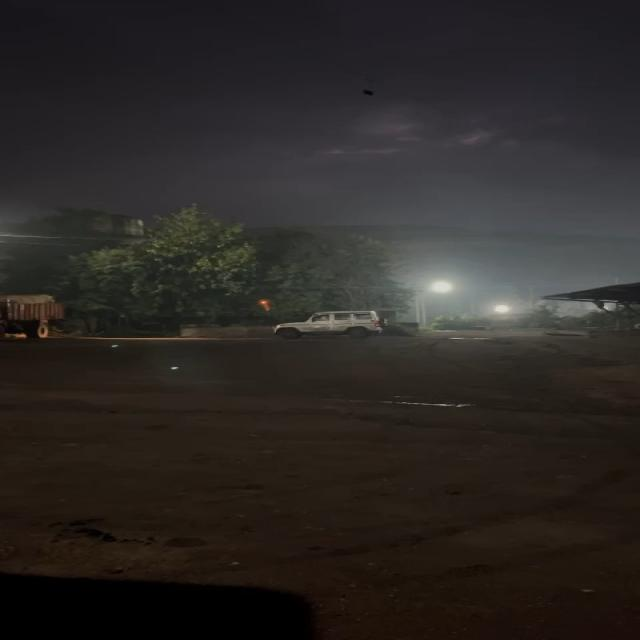light_vehicle: (274, 310, 395, 338)
